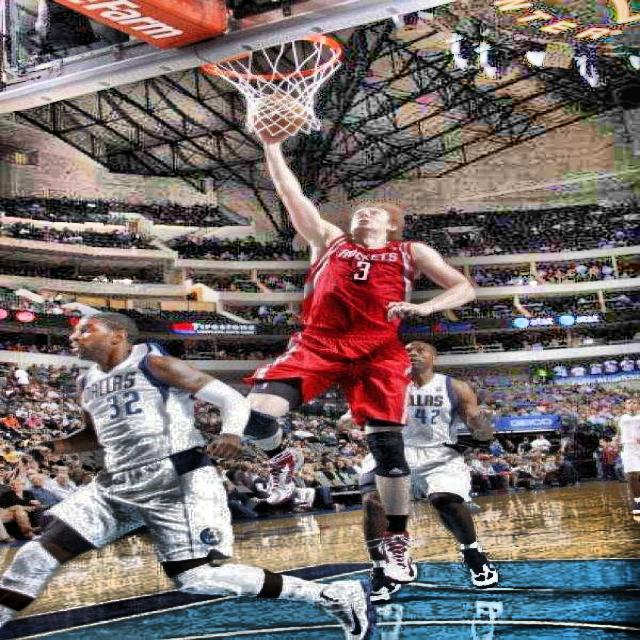rim: (202, 31, 346, 136)
